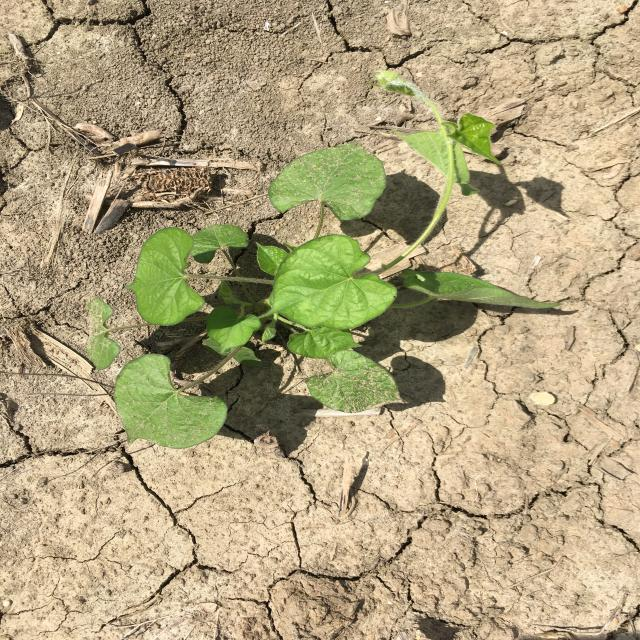MorningGlory: (85, 70, 566, 449)
